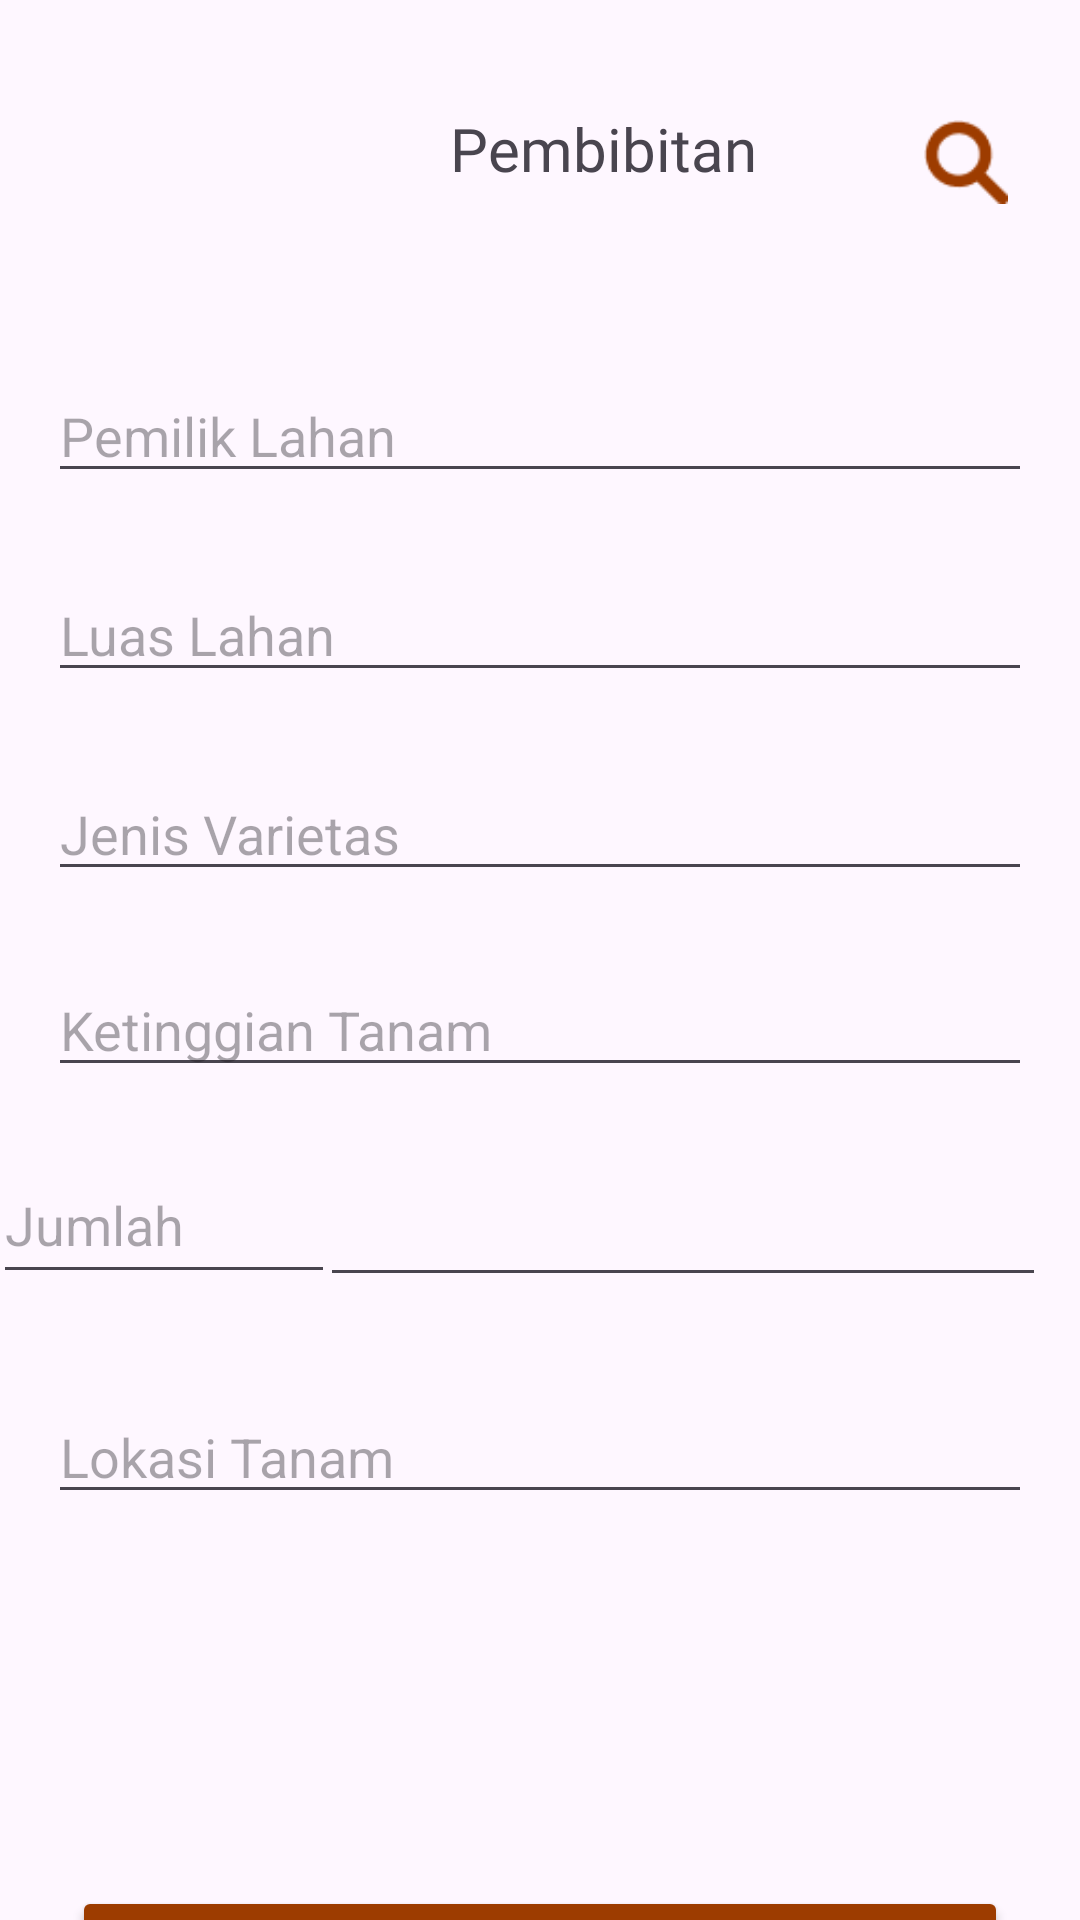

Screen size 1080w x 1920h. Icon name, then its box in pixels as [left=x1, top=y1, right=x2, bottom=y2]:
pencarian: [left=924, top=120, right=1008, bottom=204]
